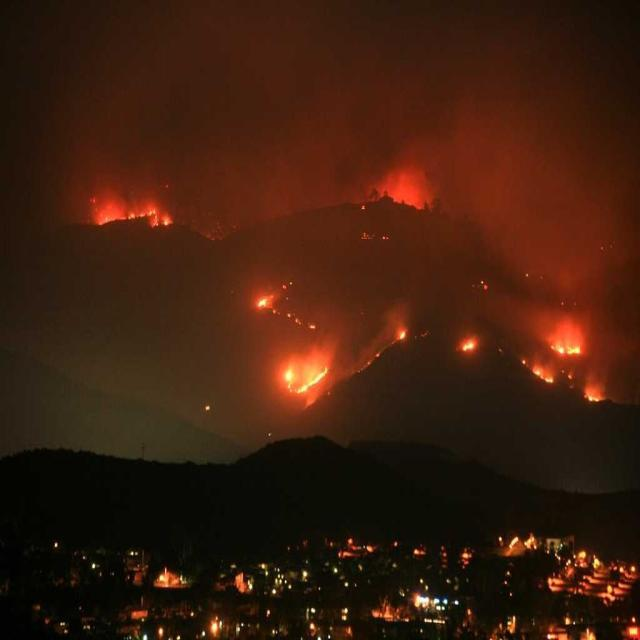Fire: (258, 350, 332, 389), (95, 202, 173, 226), (550, 328, 588, 360), (251, 287, 280, 317), (582, 381, 612, 409), (528, 370, 556, 388), (458, 336, 478, 356)
